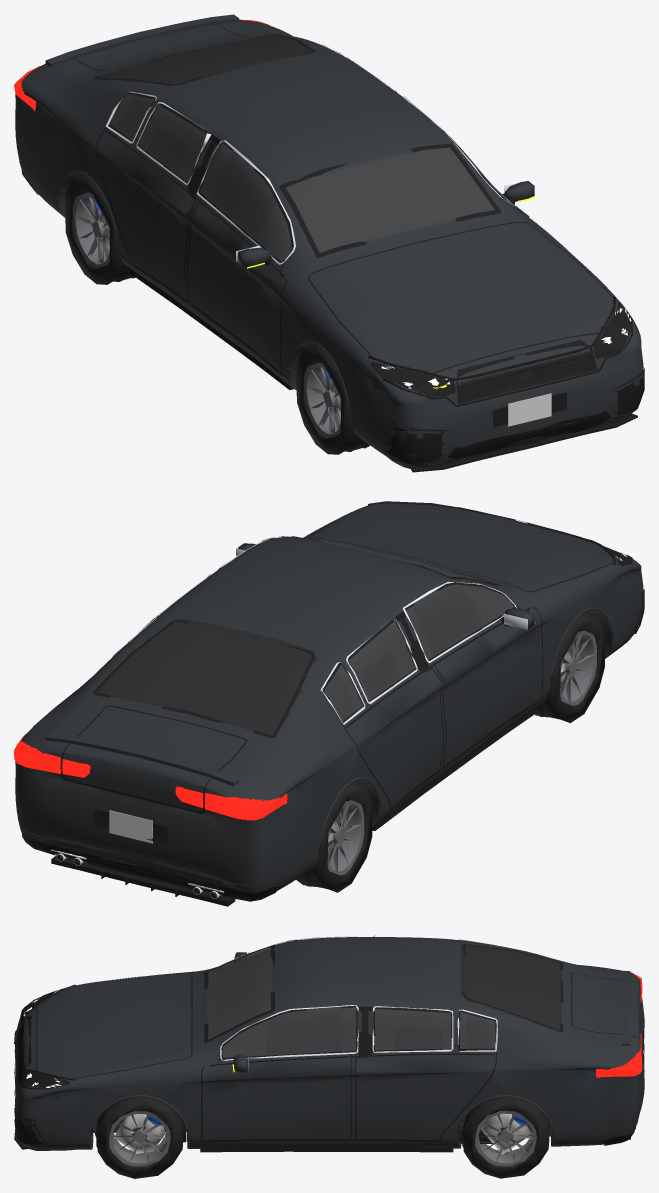
Rendered from sedanSport-lod1.glb.
3 renders of one model, top to bottom at view 1: azimuth 30°, elevation 25°; view 2: azimuth 150°, elevation 25°; view 3: azimuth 270°, elevation 25°, orthographic. The views are drawn at different scales.
Visible parts, largest first — view 1: Body, HoodSkin, Body_Lining, Body_Trim, Panel_RR, Panel_FR, Window_FR, Window_FR_Lining, TrunkSkin, Window_RR, Wheel_FR_Tyre, Wheel_RR_Tyre (+11 smaller); view 2: Body, HoodSkin, Panel_FR, TrunkSkin, Panel_RR, Body_Trim, Body_Lining, Window_FR, Window_FR_Lining, Window_RR, Wheel_RR_Tyre, Wheel_FR_Tyre (+12 smaller); view 3: Body, HoodSkin, Panel_FL, Panel_RL, Body_Lining, Window_FL, Body_Trim, Wheel_FL_Tyre, TrunkSkin, Wheel_RL_Tyre, Window_FL_Lining, Window_RL (+11 smaller).
Boxes of the visible parts, x1=… form: Body: x1=15, y1=20, x2=643, y2=467; HoodSkin: x1=310, y1=225, x2=613, y2=373; Body_Lining: x1=102, y1=36, x2=597, y2=353; Body_Trim: x1=14, y1=19, x2=644, y2=468; Panel_RR: x1=97, y1=94, x2=193, y2=299; Panel_FR: x1=188, y1=199, x2=285, y2=370; Window_FR: x1=201, y1=143, x2=291, y2=264; Window_FR_Lining: x1=211, y1=152, x2=275, y2=239; TrunkSkin: x1=78, y1=24, x2=243, y2=70; Window_RR: x1=140, y1=106, x2=206, y2=181; Wheel_FR_Tyre: x1=296, y1=346, x2=369, y2=454; Wheel_RR_Tyre: x1=65, y1=176, x2=135, y2=284; Body: x1=15, y1=503, x2=643, y2=895; HoodSkin: x1=310, y1=503, x2=613, y2=591; Panel_FR: x1=434, y1=609, x2=539, y2=764; TrunkSkin: x1=64, y1=709, x2=244, y2=809; Panel_RR: x1=324, y1=666, x2=443, y2=805; Body_Trim: x1=14, y1=507, x2=644, y2=901; Body_Lining: x1=100, y1=537, x2=539, y2=735; Window_FR: x1=405, y1=585, x2=513, y2=658; Window_FR_Lining: x1=412, y1=587, x2=482, y2=654; Window_RR: x1=349, y1=621, x2=415, y2=700; Wheel_RR_Tyre: x1=296, y1=783, x2=372, y2=892; Wheel_FR_Tyre: x1=535, y1=613, x2=604, y2=723; Body: x1=15, y1=937, x2=644, y2=1150; HoodSkin: x1=37, y1=972, x2=188, y2=1078; Panel_FL: x1=205, y1=1054, x2=348, y2=1139; Panel_RL: x1=356, y1=1012, x2=494, y2=1140; Body_Lining: x1=206, y1=946, x2=559, y2=1059; Window_FL: x1=223, y1=1005, x2=355, y2=1060; Body_Trim: x1=14, y1=944, x2=644, y2=1150; Wheel_FL_Tyre: x1=95, y1=1097, x2=184, y2=1178; TrunkSkin: x1=575, y1=973, x2=641, y2=1043; Wheel_RL_Tyre: x1=461, y1=1097, x2=550, y2=1178; Window_FL_Lining: x1=267, y1=1009, x2=342, y2=1054; Window_RL: x1=374, y1=1009, x2=448, y2=1052.
Size of the model in its own units: 2.05 by 1.42 by 4.86.
